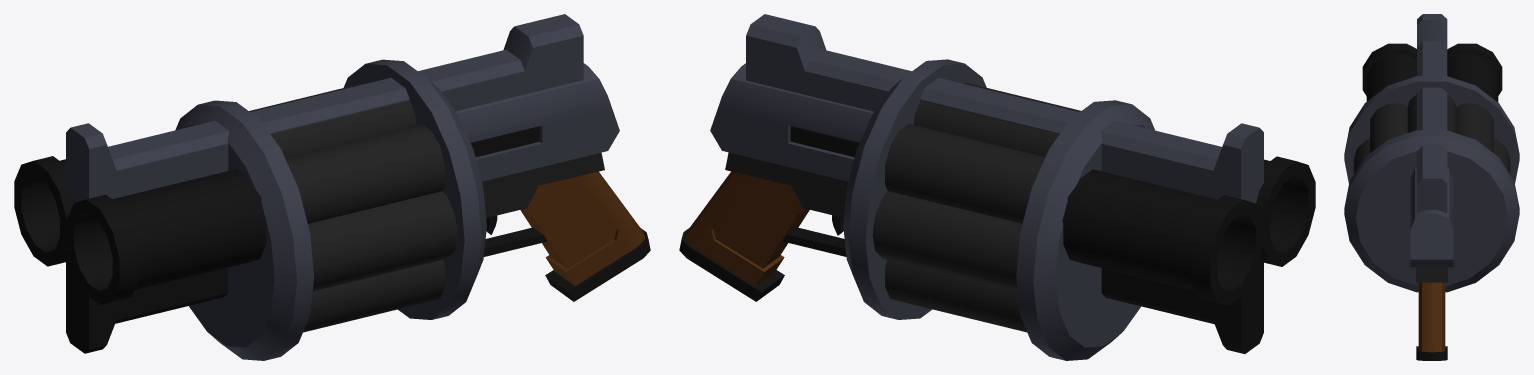
File: GrenadeLauncher.obj
3 renders of one model, left to right at view 1: azimuth 30°, elevation 25°; view 2: azimuth 150°, elevation 25°; view 3: azimuth 270°, elevation 25°, orthographic. The views are drawn at different scales.
Parts seen in each view (by area): view 1: GrenadeLauncher_Cylinder.019; view 2: GrenadeLauncher_Cylinder.019; view 3: GrenadeLauncher_Cylinder.019.
Boxes of the visible parts, x1=… form: GrenadeLauncher_Cylinder.019: x1=14, y1=14, x2=650, y2=360; GrenadeLauncher_Cylinder.019: x1=679, y1=14, x2=1315, y2=360; GrenadeLauncher_Cylinder.019: x1=1344, y1=14, x2=1519, y2=360.
Bounding box in the file's own units: 1.2 × 0.555 × 0.4779.
